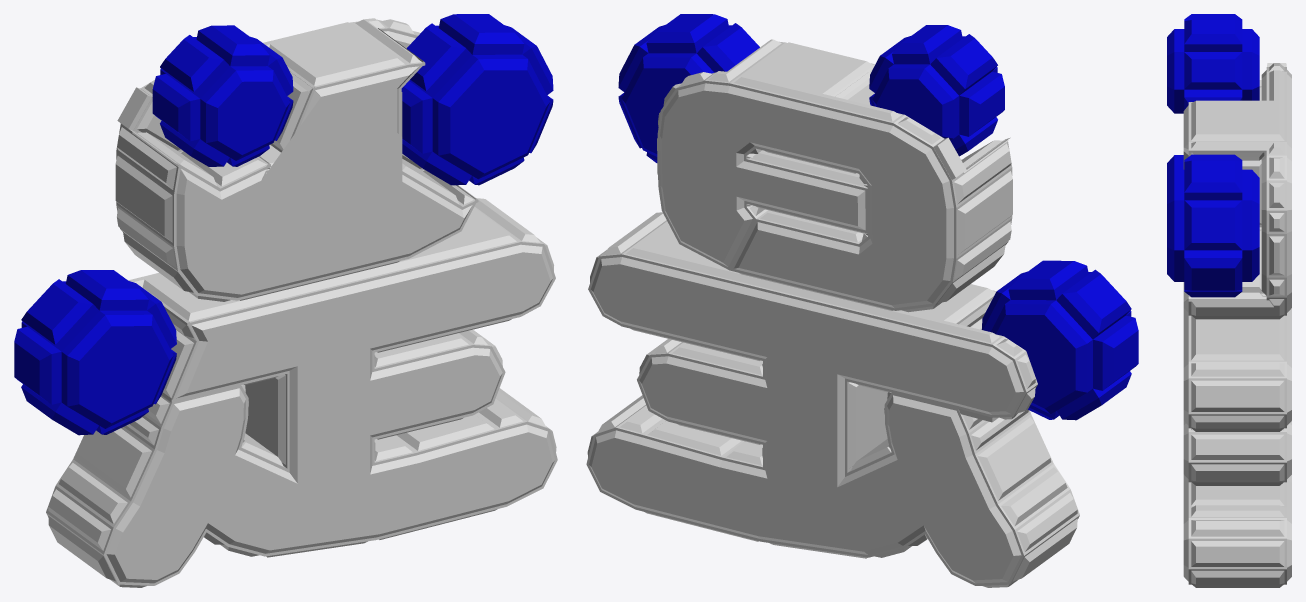
File: Ch_China_是_01.fbx
3 views of the same model, side by side, from view 1: azimuth 30°, elevation 25°; view 2: azimuth 150°, elevation 25°; view 3: azimuth 270°, elevation 25° (orthographic). The views are drawn at different scales.
Visible parts, largest first — view 1: sphere1; view 2: sphere1; view 3: sphere1.
Part boxes in pixels (box(x1,y1,x2,y2)): sphere1: box(14, 14, 557, 587); sphere1: box(586, 14, 1138, 587); sphere1: box(1167, 14, 1291, 587).
Size of the model in its own units: 1.04 by 1.02 by 0.2541.
